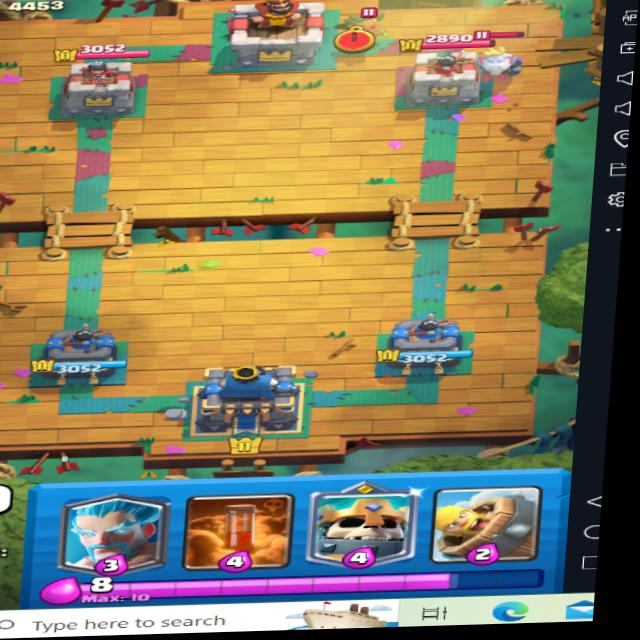dart-goblin: (331, 3, 399, 50)
royal-ghost: (469, 26, 527, 82)
